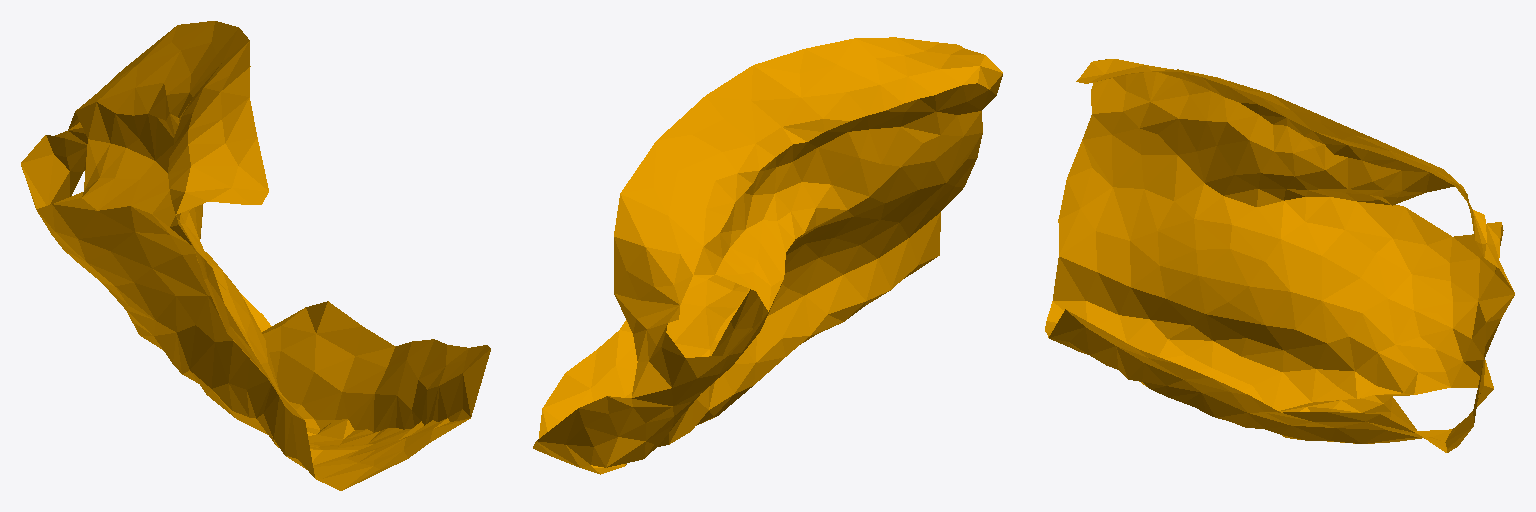
URDF robot description (init):
<?xml version='1.0' encoding='utf-8'?>
<robot name="init">
<link name="link_0"><inertial><mass value="1.0" /><origin rpy="0 0 0" xyz="0.000000 0.000000 0.000000" /><inertia ixx="1.0" ixy="0.0" ixz="0.0" iyy="1.0" iyz="0.0" izz="1.0" /></inertial><visual><origin rpy="0 0 0" xyz="0.000000 0.000000 0.000000" /><geometry><mesh filename="./clothHuman/cloth/465.obj" /></geometry></visual><collision><origin rpy="0 0 0" xyz="0.000000 0.000000 0.000000" /><geometry><mesh filename="./clothHuman/cloth/465.obj" /></geometry></collision></link></robot>

--- Facts derived from the render (not from the file) ---
Views: 3 orthographic renders of the robot side by side, from view 1: azimuth 30°, elevation 25°; view 2: azimuth 150°, elevation 25°; view 3: azimuth 270°, elevation 25°.
Robot: init — 1 links, 0 joints (none); root link link_0; default pose: every joint at zero.
Links seen in each view (by area): view 1: link_0; view 2: link_0; view 3: link_0.
Link boxes in pixels (x1=…): link_0: x1=21, y1=21, x2=490, y2=490; link_0: x1=533, y1=37, x2=1002, y2=474; link_0: x1=1045, y1=59, x2=1514, y2=452.
Bounding box of the posed robot: 2.32 × 3.68 × 2.79 m (x, y, z).
1 mesh visuals loaded from 1 distinct referenced files (1 OBJ).